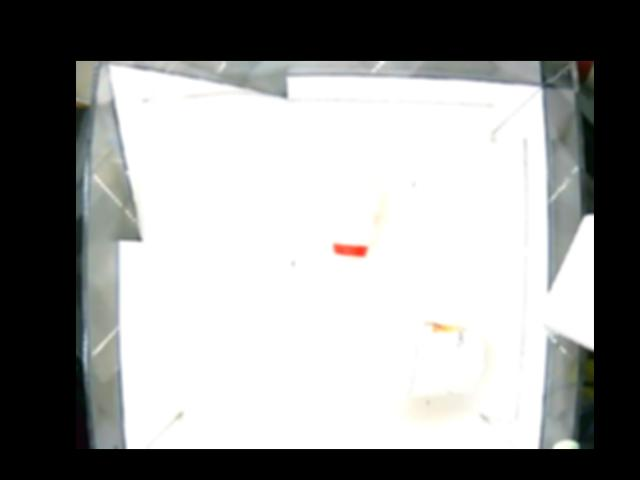Bottle: (326, 174, 385, 255)
Cup: (379, 316, 487, 403)
